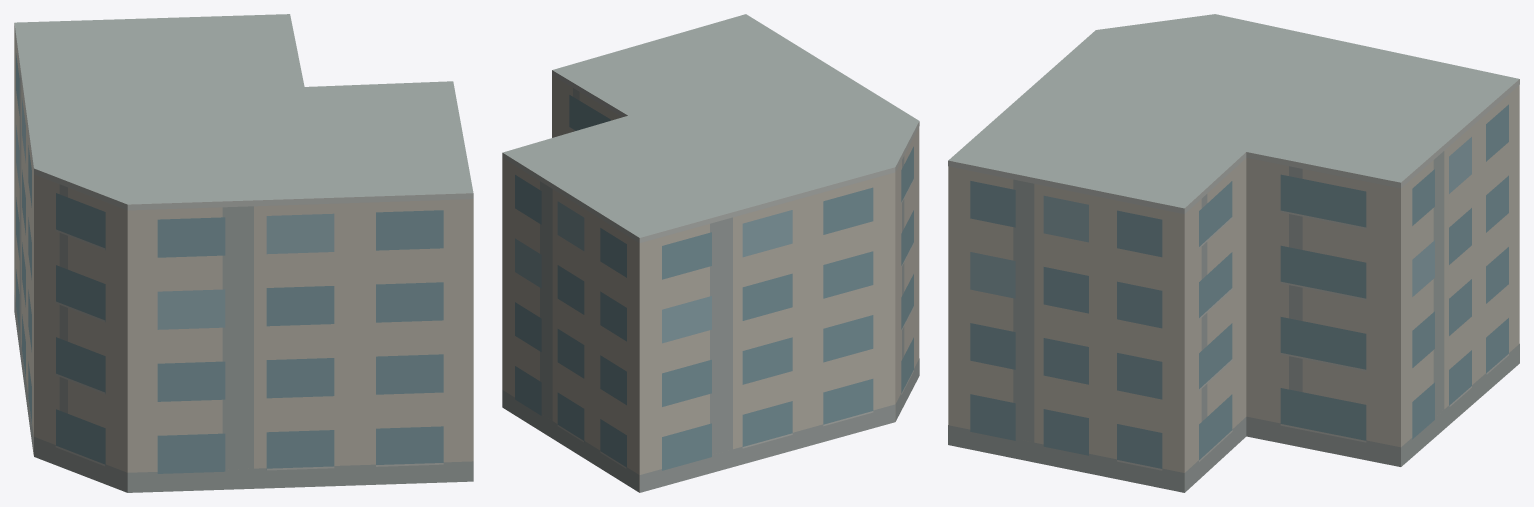
Rendered from residential-c96975ad-59b4-446c-909a-ede632fb7951.glb.
3 views of the same model, side by side, from view 1: azimuth 30°, elevation 25°; view 2: azimuth 150°, elevation 25°; view 3: azimuth 270°, elevation 25° (orthographic). The views are drawn at different scales.
Parts seen in each view (by area): view 1: residential-c96975ad-59b4-446c-909a-ede632fb7951.tmp; view 2: residential-c96975ad-59b4-446c-909a-ede632fb7951.tmp; view 3: residential-c96975ad-59b4-446c-909a-ede632fb7951.tmp.
Part boxes in pixels (x1,y1,x2,y2): residential-c96975ad-59b4-446c-909a-ede632fb7951.tmp: (14, 14, 473, 492); residential-c96975ad-59b4-446c-909a-ede632fb7951.tmp: (502, 14, 919, 492); residential-c96975ad-59b4-446c-909a-ede632fb7951.tmp: (948, 14, 1519, 492).
Bounding box in the file's own units: 17.6 × 12 × 21.86.
